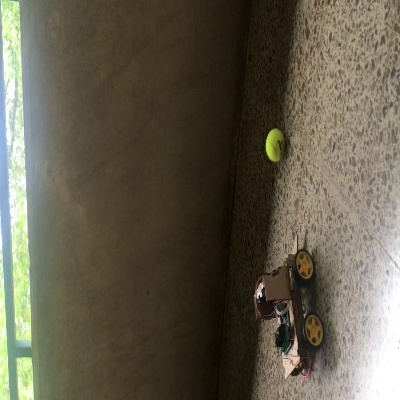Ball: (265, 128, 283, 161)
Robot: (252, 237, 324, 379)
